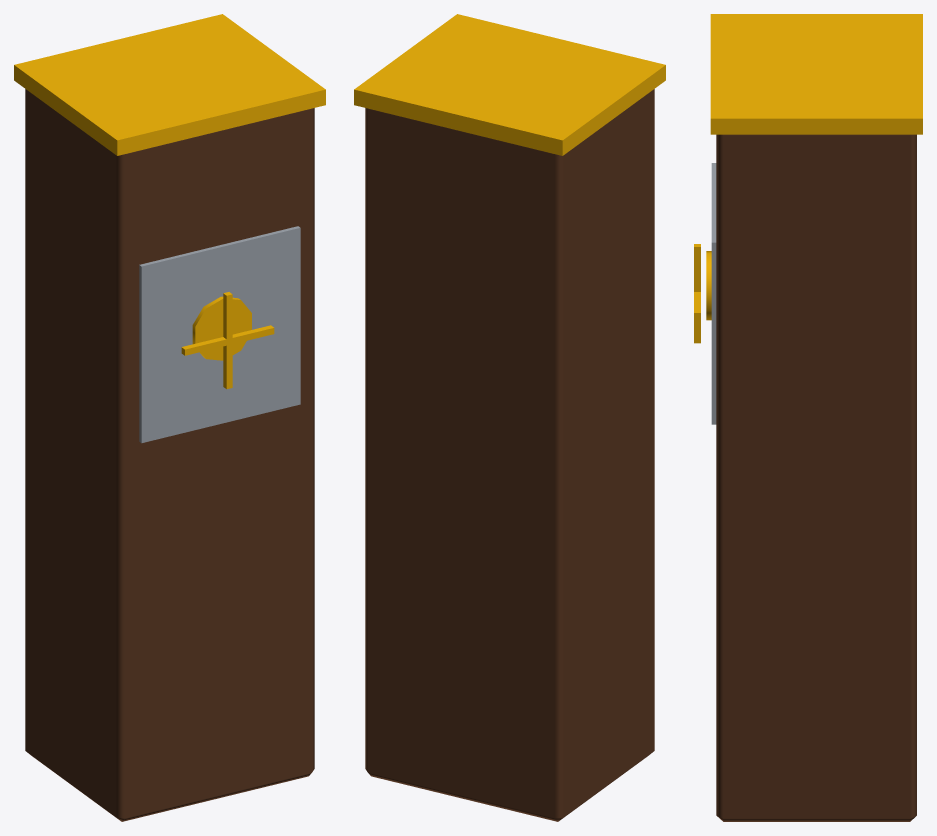
Rendered from station_transport_ausstattung_3_1.glb.
3 renders of one model, left to right at view 1: azimuth 30°, elevation 25°; view 2: azimuth 150°, elevation 25°; view 3: azimuth 270°, elevation 25°, orthographic. The views are drawn at different scales.
Visible parts, largest first — view 1: station_transport_ausstattung_3_1; view 2: station_transport_ausstattung_3_1; view 3: station_transport_ausstattung_3_1.
Boxes of the visible parts, x1=… form: station_transport_ausstattung_3_1: x1=14, y1=14, x2=325, y2=821; station_transport_ausstattung_3_1: x1=354, y1=14, x2=665, y2=821; station_transport_ausstattung_3_1: x1=694, y1=14, x2=922, y2=821.
Size of the model in its own units: 0.42 by 1.32 by 0.388.
